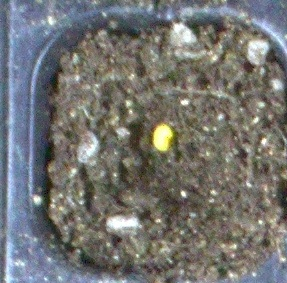chilli seed: (153, 122, 173, 152)
